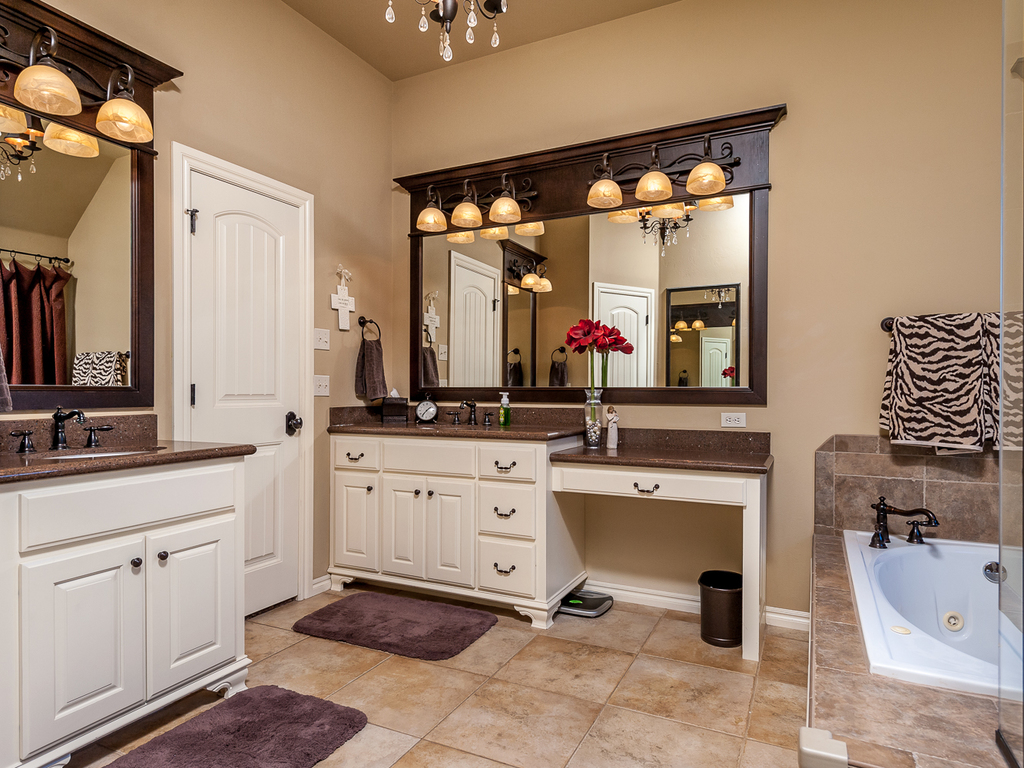cabinet door: (19, 558, 140, 701), (154, 537, 238, 655), (566, 475, 750, 498), (430, 490, 473, 585), (386, 479, 427, 575), (337, 474, 380, 563), (390, 451, 468, 477), (482, 549, 530, 591), (481, 501, 534, 534), (484, 453, 534, 474), (334, 444, 380, 466)
door: (219, 205, 302, 595), (452, 271, 498, 383), (603, 298, 648, 381), (702, 340, 732, 388)
handle: (492, 459, 526, 478), (126, 553, 146, 578), (289, 407, 305, 436), (627, 482, 662, 495), (489, 564, 518, 579), (343, 451, 366, 464), (494, 510, 513, 523), (425, 485, 436, 507), (155, 548, 170, 563), (365, 482, 374, 498), (411, 487, 418, 500)
